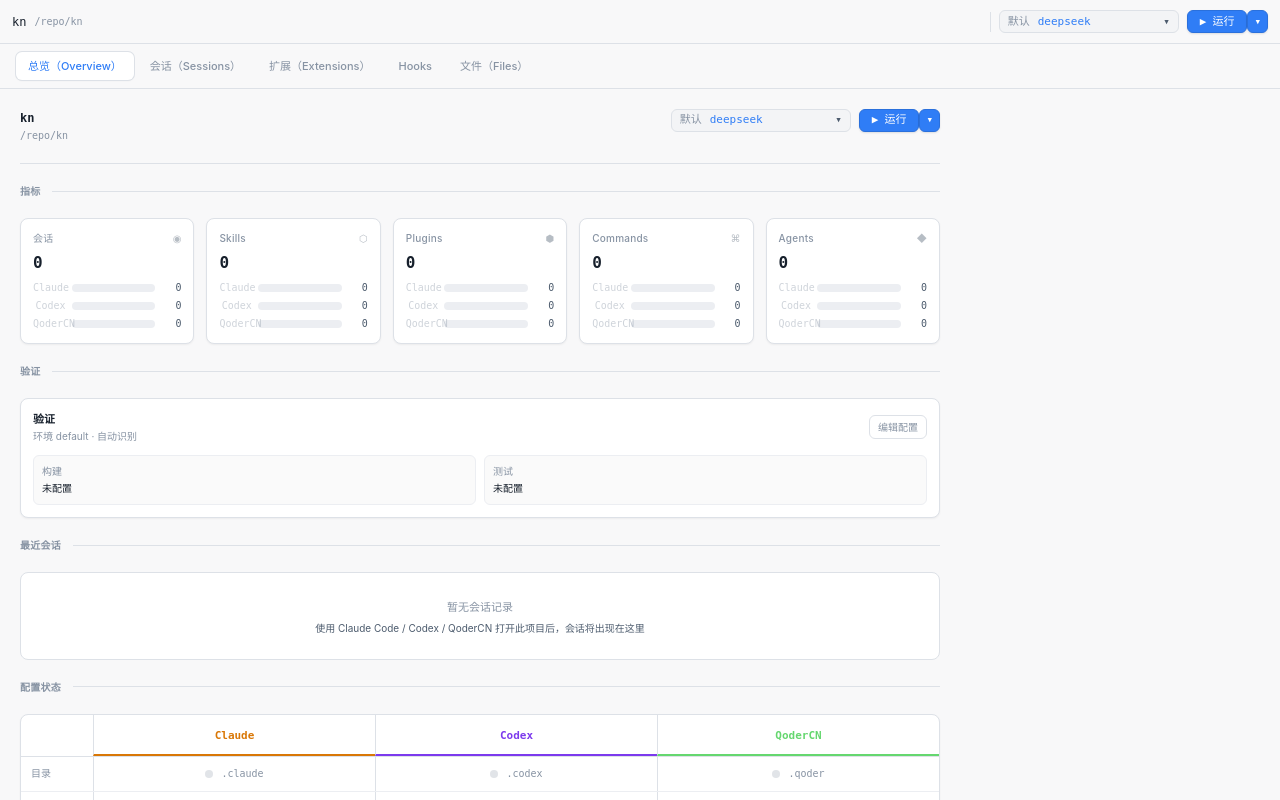
Test case: ProjectWorkspace › shows inherited user plugins in the project Resource tab
The width and height of the screenshot is (1280, 800).
Click the tab "扩展（Extensions）".
click(320, 66)  # box [257,52,382,80]
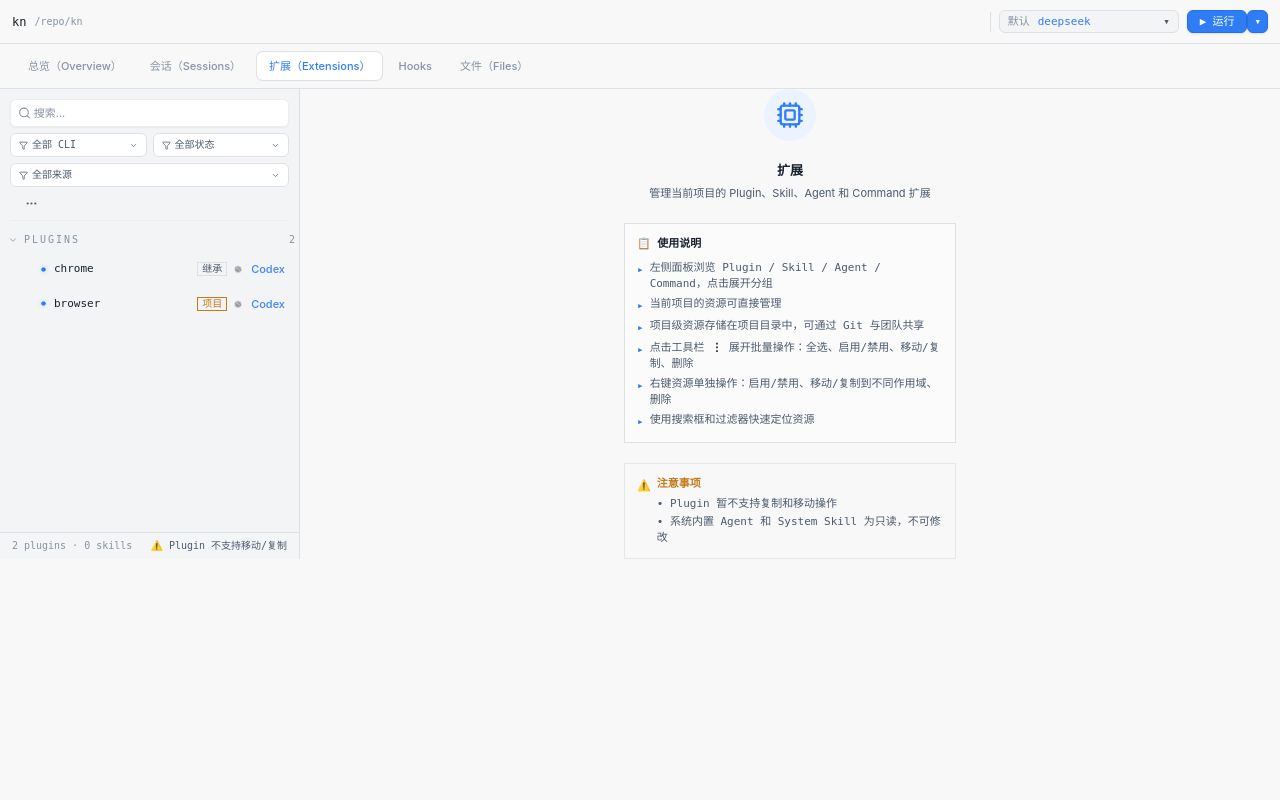
Check: the text "chrome" is shown, box [54,262,94,275]
Check: the text "browser" is shown, box [54,297,100,310]
Check: the text "继承" is shown, box [197,262,227,276]
